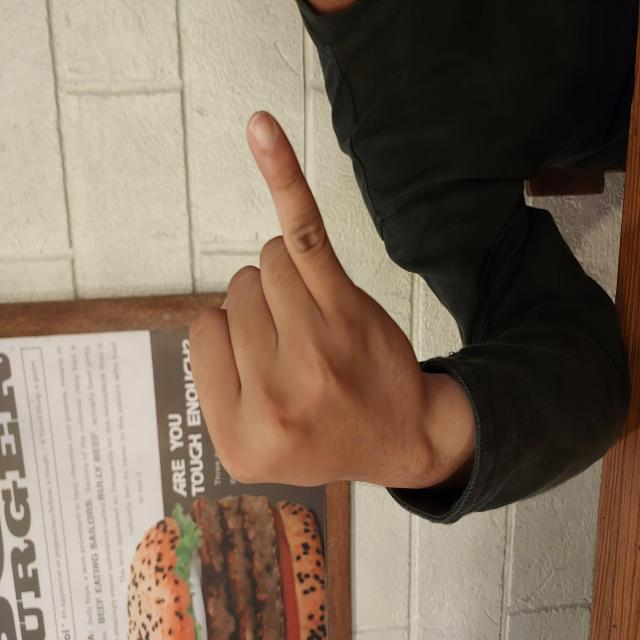J: (148, 186, 530, 427)
